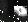person: (19, 7, 28, 17), (16, 8, 21, 16)
